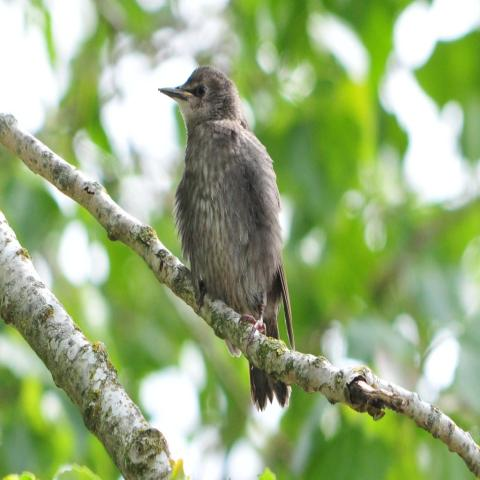bird: (156, 62, 296, 412)
